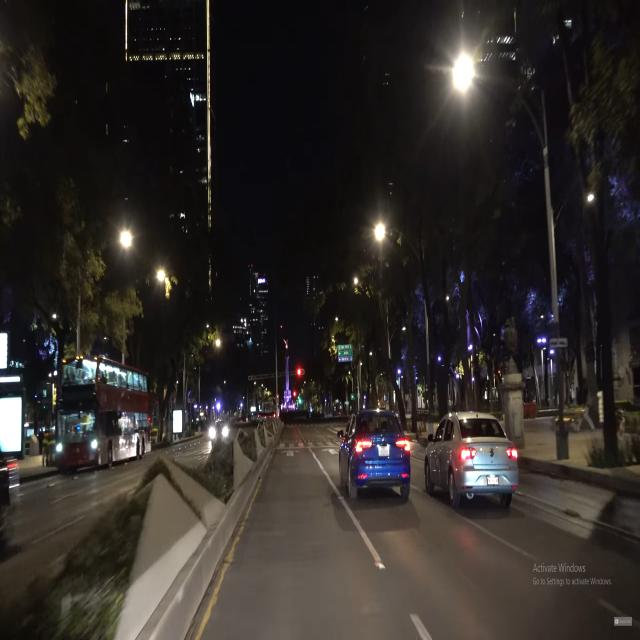headlights: (51, 431, 103, 467), (203, 419, 232, 446)
